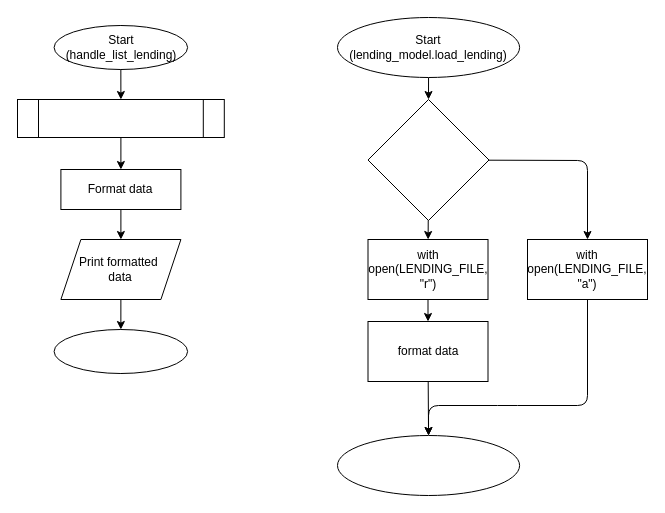
The diagram is 665 pixels wide and 513 high, and some of its shapes have lost their labels. The shapes that lost their labels are listed below. From the top down, each one's centre as x and y in pixels, then its label:
At (x=120, y=118): "lending_model.load_lending".
At (x=428, y=159): "if LENDING_FILE exists".
At (x=120, y=351): "End (handle_list_lending)".
At (x=428, y=465): "End - Return data (lending_model.load_lending)".
